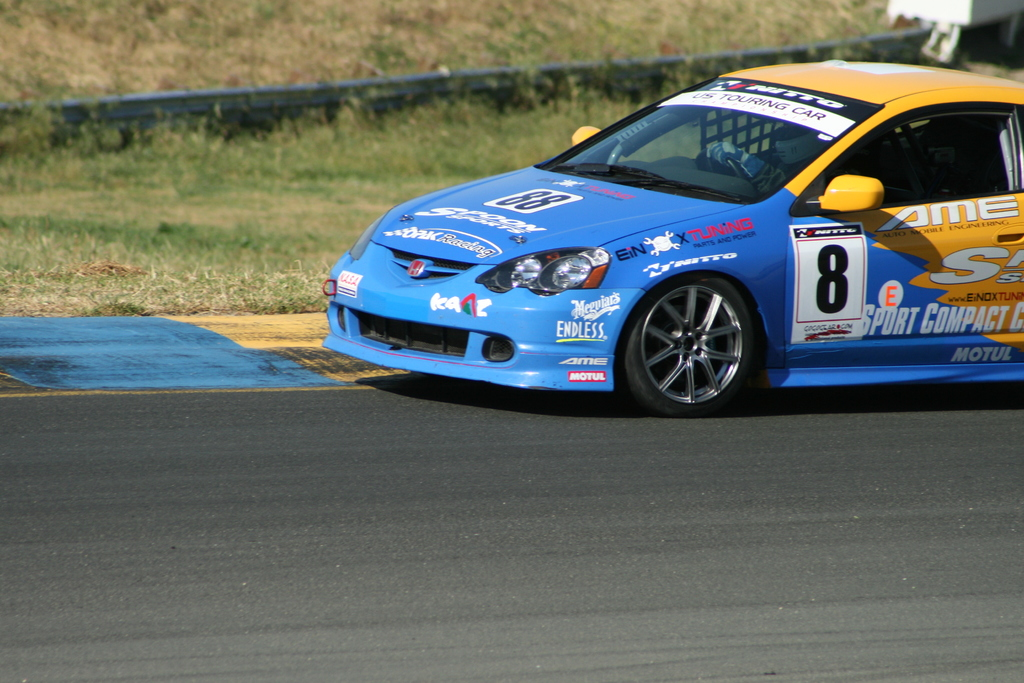Car: (316, 53, 1008, 415)
